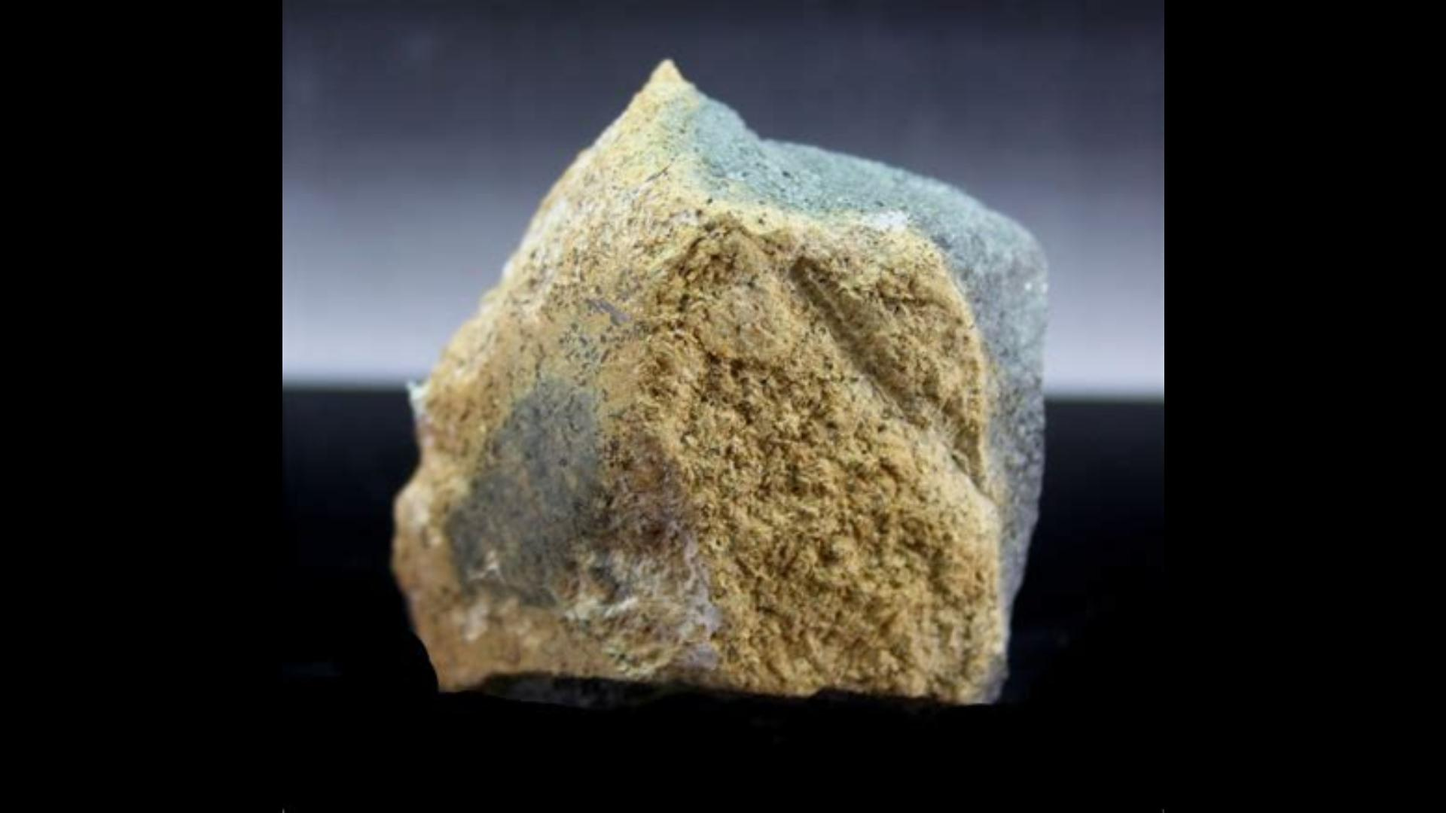rock: (393, 63, 1037, 700)
